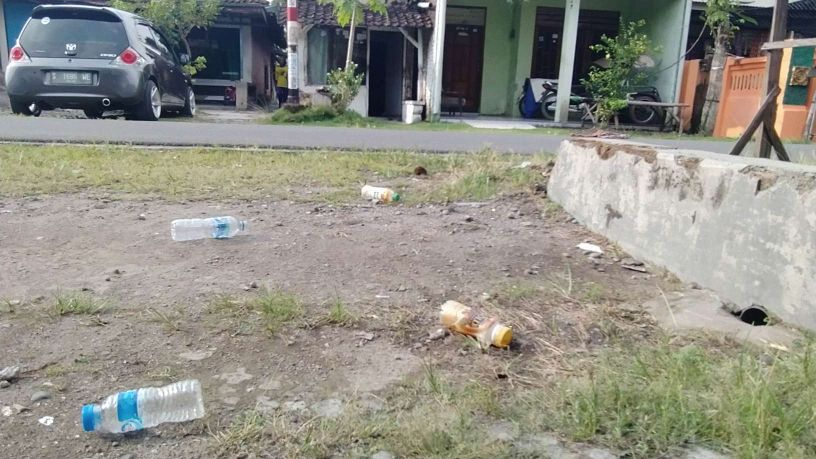botol: (73, 379, 211, 428), (444, 293, 518, 347), (167, 209, 257, 243), (355, 175, 407, 212)
